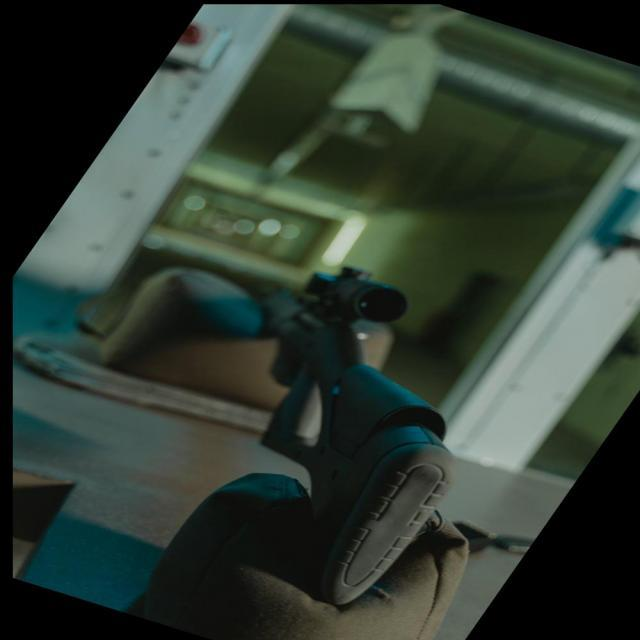weapon: (257, 262, 458, 608)
